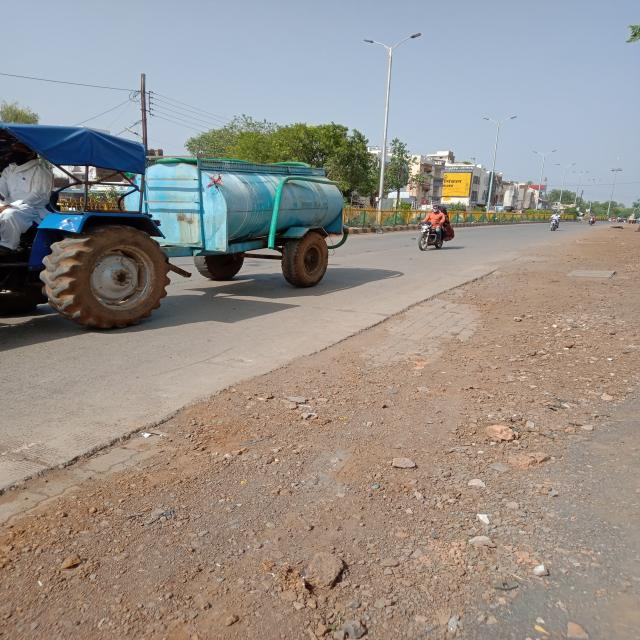Bike: (409, 199, 469, 254)
Tractor: (3, 110, 341, 326)
